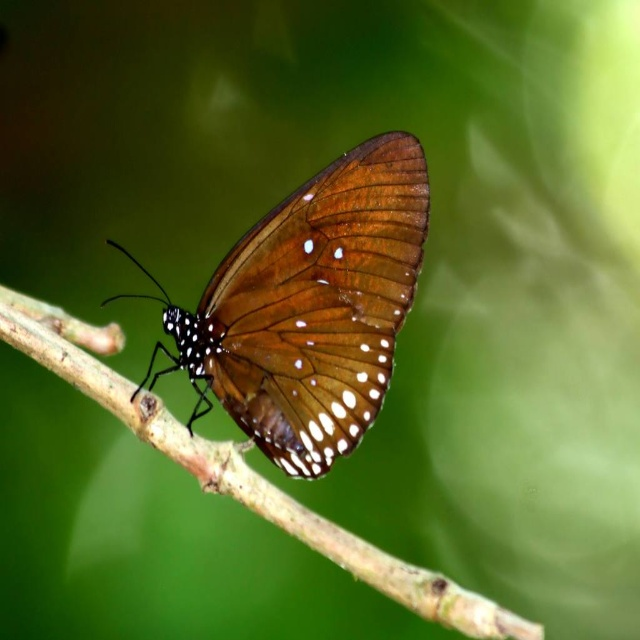Butterfly: (100, 129, 431, 478)
